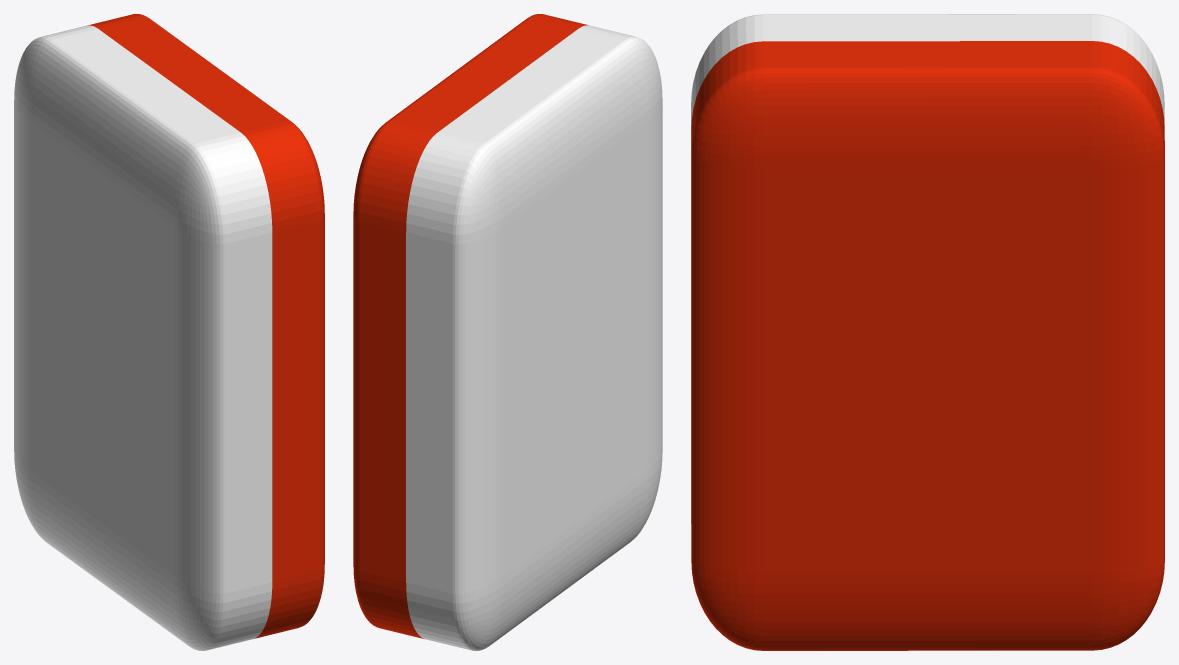
File: tile.glb
3 renders of one model, left to right at view 1: azimuth 30°, elevation 25°; view 2: azimuth 150°, elevation 25°; view 3: azimuth 270°, elevation 25°, orthographic. The views are drawn at different scales.
Parts seen in each view (by area): view 1: tile; view 2: tile; view 3: tile.
Part boxes in pixels (box(x1,y1,x2,y2)): tile: box(14, 14, 324, 650); tile: box(353, 14, 662, 650); tile: box(691, 14, 1164, 650).
Bounding box in the file's own units: 0.00898 × 0.0321 × 0.0237.
